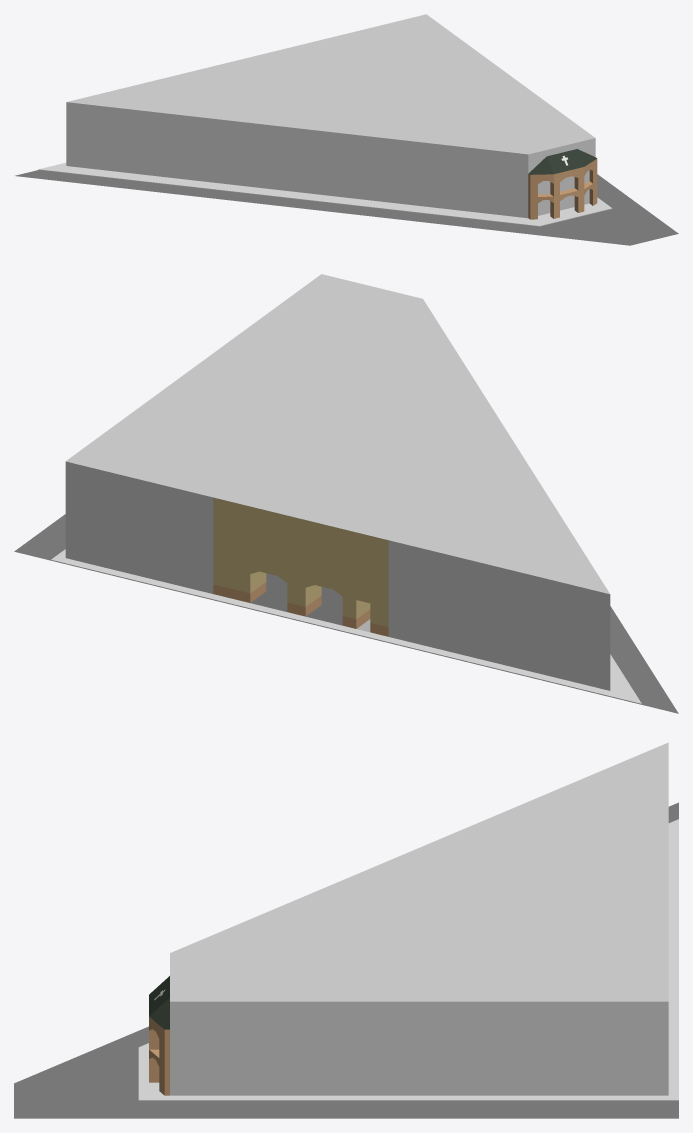
The model's file is chunk_cruz_blanca.glb.
3 renders of one model, top to bottom at view 1: azimuth 30°, elevation 25°; view 2: azimuth 150°, elevation 25°; view 3: azimuth 270°, elevation 25°, orthographic. The views are drawn at different scales.
Parts seen in each view (by area): view 1: Facade, Roads, Sidewalk, Arch; view 2: Facade, ParkingEntrance, Sidewalk, Roads, ParkingInterior; view 3: Facade, Roads, Sidewalk, Arch.
Boxes of the visible parts, <box> form: Facade: <box>66,14,595,218</box>; Roads: <box>15,170,678,245</box>; Sidewalk: <box>38,162,612,226</box>; Arch: <box>528,149,597,219</box>; Facade: <box>65,274,610,690</box>; ParkingEntrance: <box>213,497,388,636</box>; Sidewalk: <box>51,549,641,704</box>; Roads: <box>14,514,678,713</box>; ParkingInterior: <box>266,573,342,609</box>; Facade: <box>170,742,668,1095</box>; Roads: <box>14,802,678,1118</box>; Sidewalk: <box>138,819,678,1100</box>; Arch: <box>149,976,169,1095</box>.
Size of what is drawn, in the model's own units: 72 by 10.1 by 64.
